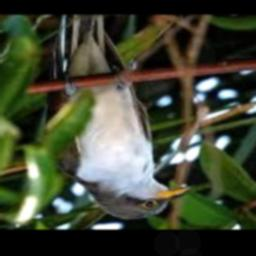Cuckoo: (47, 14, 190, 218)
